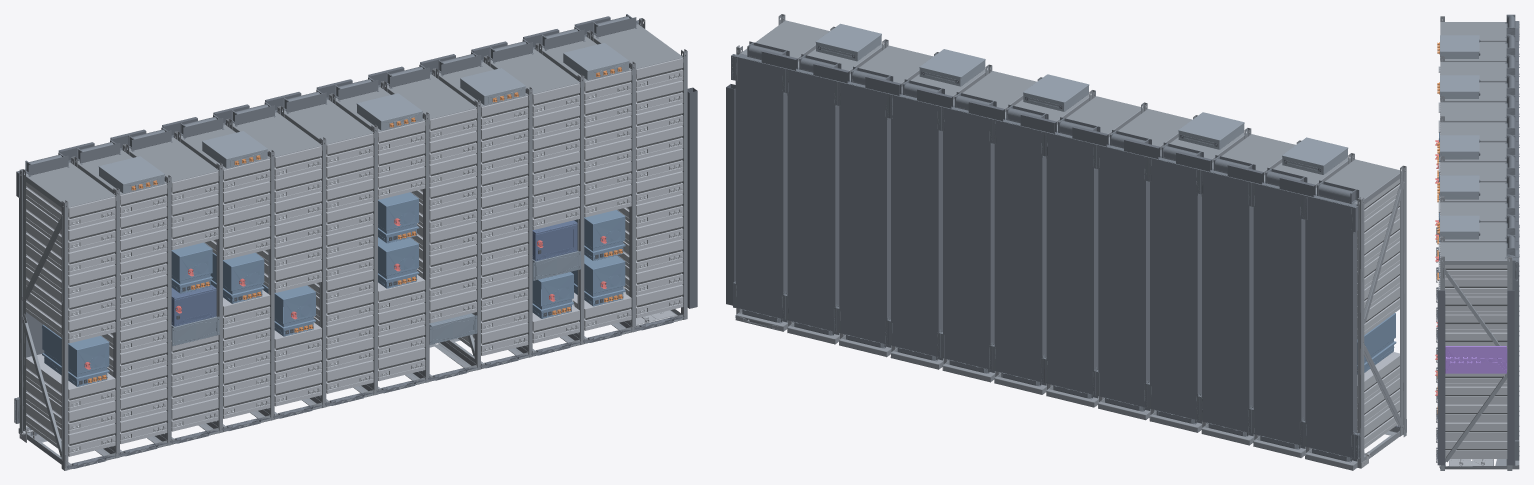
3 renders of one model, left to right at view 1: azimuth 30°, elevation 25°; view 2: azimuth 150°, elevation 25°; view 3: azimuth 270°, elevation 25°, orthographic. The views are drawn at different scales.
Parts seen in each view (by area): view 1: module, frame, ssc, duct, trunk, jb, acdp, msm, conn_dc; view 2: duct, frame, jb, trunk, module, ssc; view 3: frame, module, jb, trunk, duct, panel, misc, conn_dc, estop.
Boxes of the visible parts, x1,y1,x2,y2 form: module: (26, 58, 683, 456); frame: (18, 18, 687, 470); ssc: (42, 192, 625, 386); duct: (14, 14, 638, 435); trunk: (58, 16, 697, 468); jb: (98, 43, 629, 193); acdp: (171, 251, 580, 346); msm: (171, 220, 577, 326); conn_dc: (88, 67, 622, 382); duct: (731, 41, 1360, 462); frame: (735, 14, 1406, 470); jb: (815, 23, 1348, 174); trunk: (726, 50, 1399, 428); module: (1357, 179, 1399, 448); ssc: (1357, 313, 1396, 374); frame: (1440, 16, 1519, 470); module: (1438, 57, 1507, 458); jb: (1440, 35, 1479, 239); trunk: (1436, 28, 1518, 467); duct: (1505, 14, 1519, 465); panel: (1445, 346, 1507, 373); misc: (1449, 459, 1493, 466); conn_dc: (1437, 42, 1439, 414); estop: (1435, 140, 1438, 395).
Size of the model in its own units: 6.14 by 2.54 by 0.8915.
